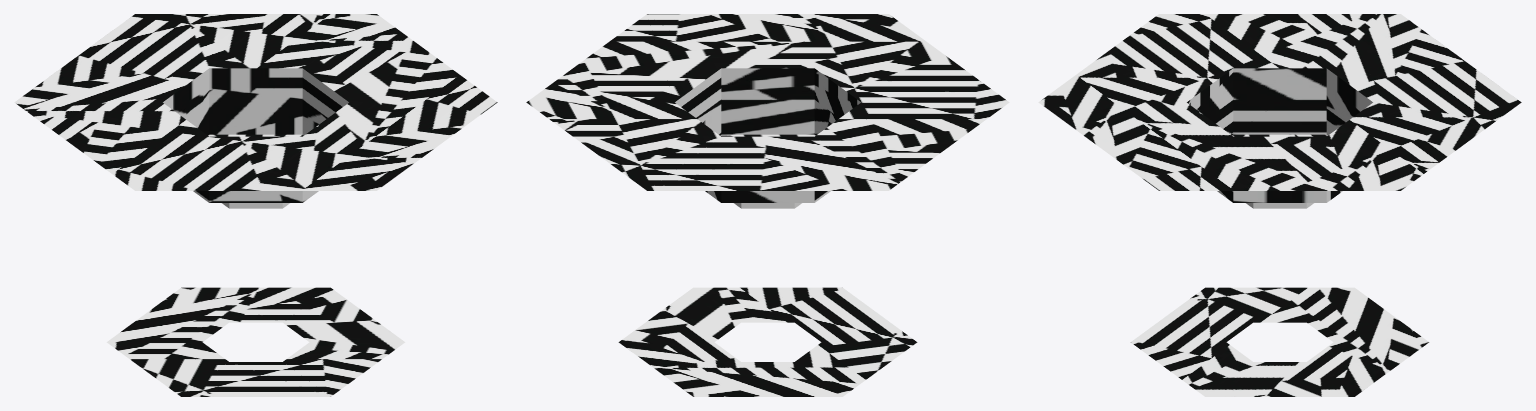
The picture shows the model from 3 angles, left to right: view 1: azimuth 30°, elevation 25°; view 2: azimuth 150°, elevation 25°; view 3: azimuth 270°, elevation 25°; orthographic projection.
Visible parts, largest first — view 1: Cylinder; view 2: Cylinder; view 3: Cylinder.
Part boxes in pixels (<box>): Cylinder: <box>14,14,497,396</box>; Cylinder: <box>526,14,1009,396</box>; Cylinder: <box>1038,14,1521,396</box>.
Bounding box in the file's own units: 44.51 × 28.14 × 51.39.
Materials: 1 (1 with a texture image).
